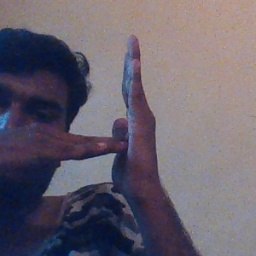Z: (68, 32, 166, 201)
